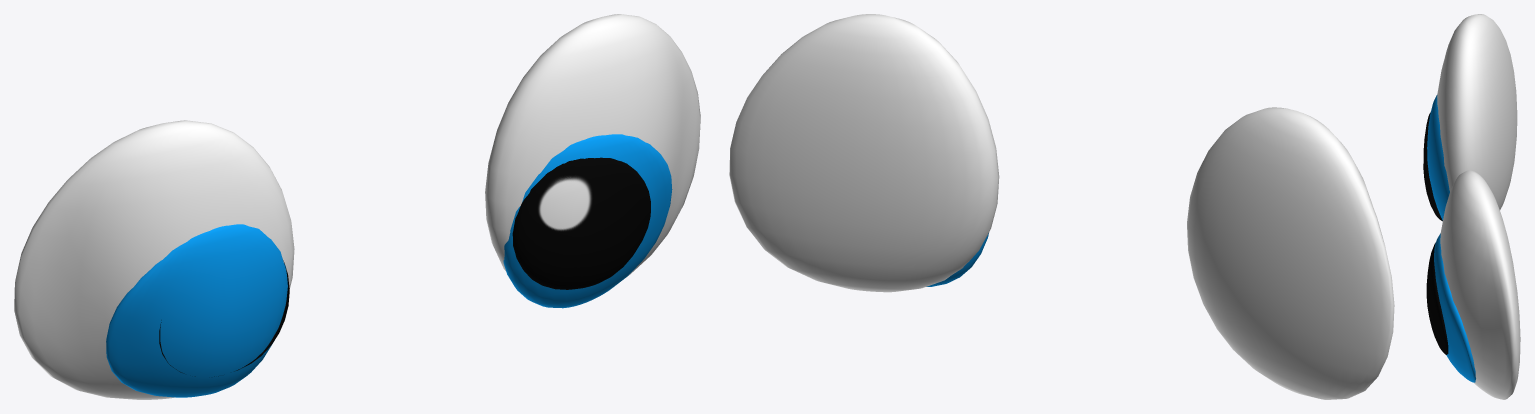
The picture shows the model from 3 angles, left to right: view 1: azimuth 30°, elevation 25°; view 2: azimuth 150°, elevation 25°; view 3: azimuth 270°, elevation 25°; orthographic projection. The views are drawn at different scales.
Visible parts, largest first — view 1: Sphere.008; view 2: Sphere.008; view 3: Sphere.008.
Boxes of the visible parts, <box> form: Sphere.008: <box>14,14,700,399</box>; Sphere.008: <box>729,14,1394,399</box>; Sphere.008: <box>1423,14,1520,399</box>.
Size of the model in its own units: 0.3942 by 0.1546 by 0.0652.
Materials: 5 (5 with a texture image).
